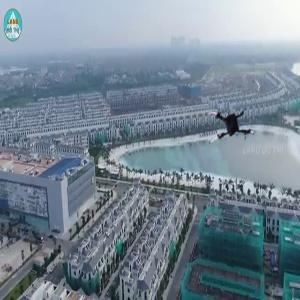drone: (204, 99, 261, 156)
